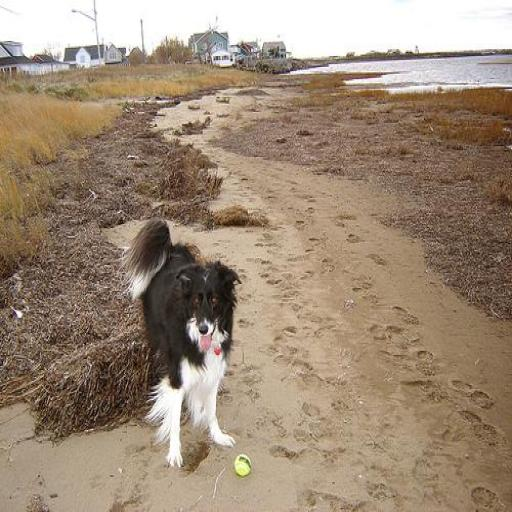dog_face: (175, 259, 245, 359)
